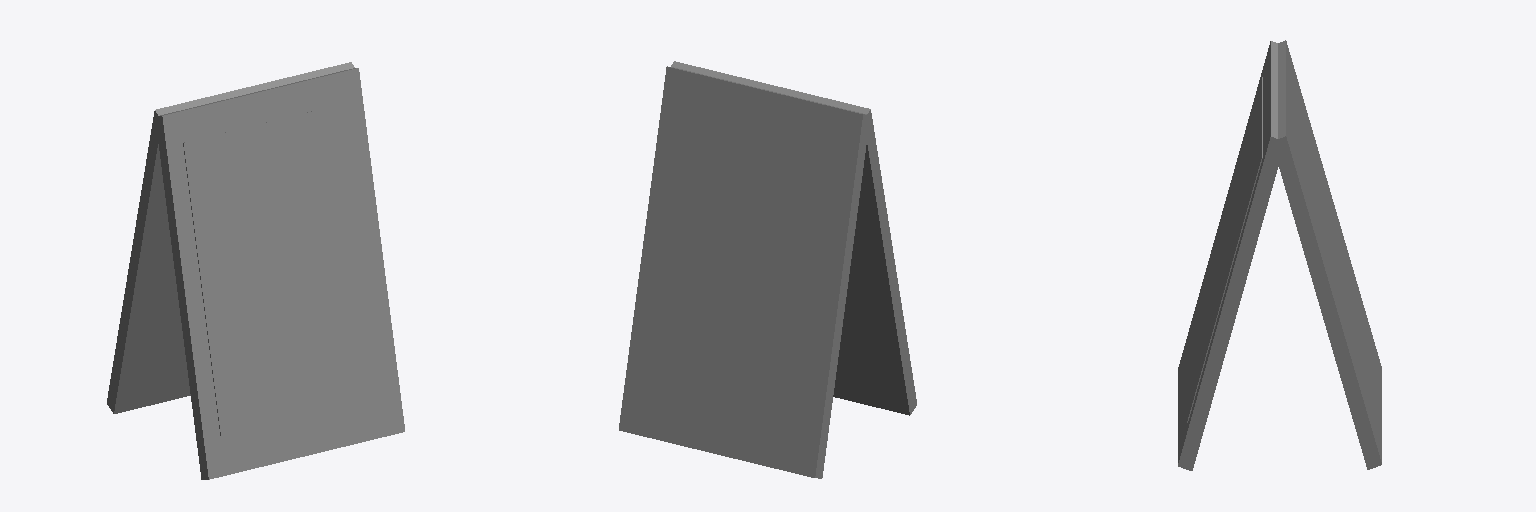
Rendered from standMadera_CarnivalThemis.obj.
3 views of the same model, side by side, from view 1: azimuth 30°, elevation 25°; view 2: azimuth 150°, elevation 25°; view 3: azimuth 270°, elevation 25° (orthographic).
Visible parts, largest first — view 1: Box003, letrero, Box002; view 2: Box002, letrero; view 3: Box002, letrero, Box003.
Part boxes in pixels (x1,y1,x2,y2): Box003: (183, 102, 386, 435); letrero: (155, 68, 404, 479); Box002: (107, 62, 354, 413); Box002: (619, 66, 867, 478); letrero: (671, 61, 916, 415); Box002: (1273, 40, 1381, 469); letrero: (1178, 41, 1284, 470); Box003: (1187, 77, 1262, 422).
Size of the model in its own units: 3.13 by 5.1 by 2.82.